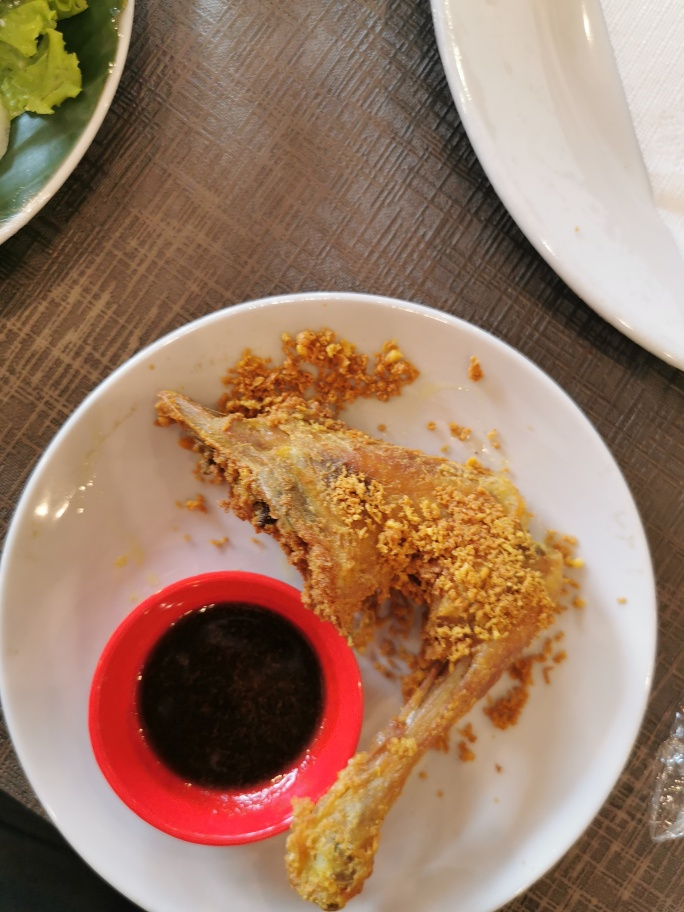ayam goreng: (149, 380, 562, 906)
kecap: (85, 571, 368, 846)
